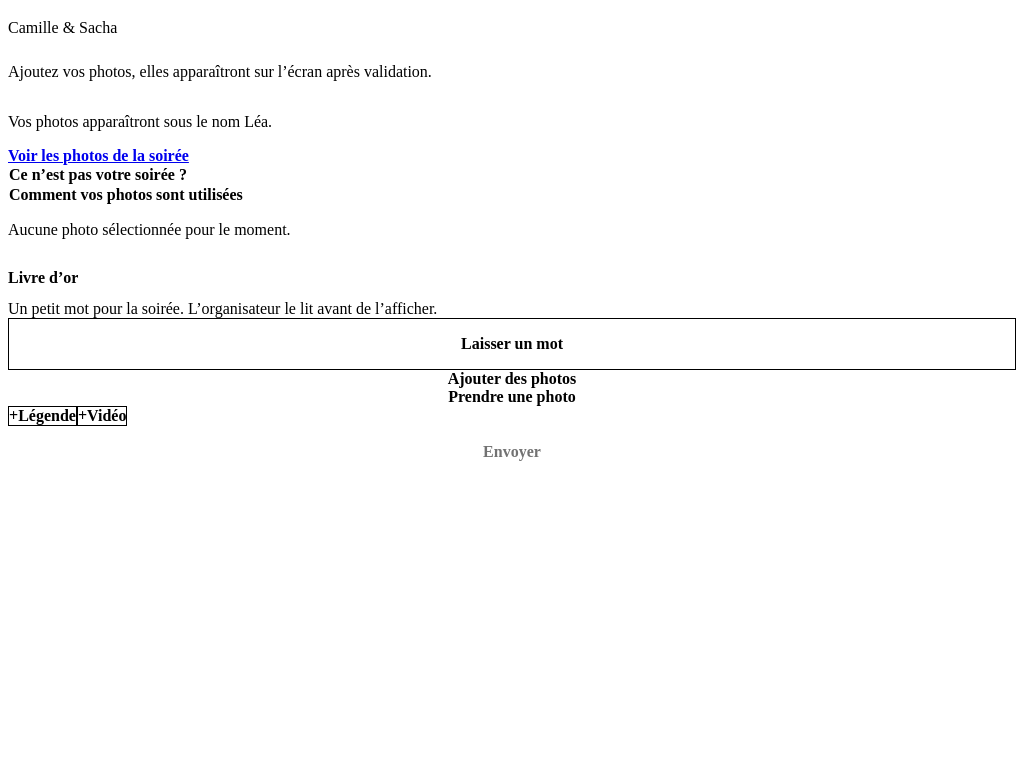
it: GuestUploadPage, the guestbook › says the ceiling in words when the server refuses a fourth message
Click the button "Laisser un mot" at (512, 344), box [8,318,1016,370]
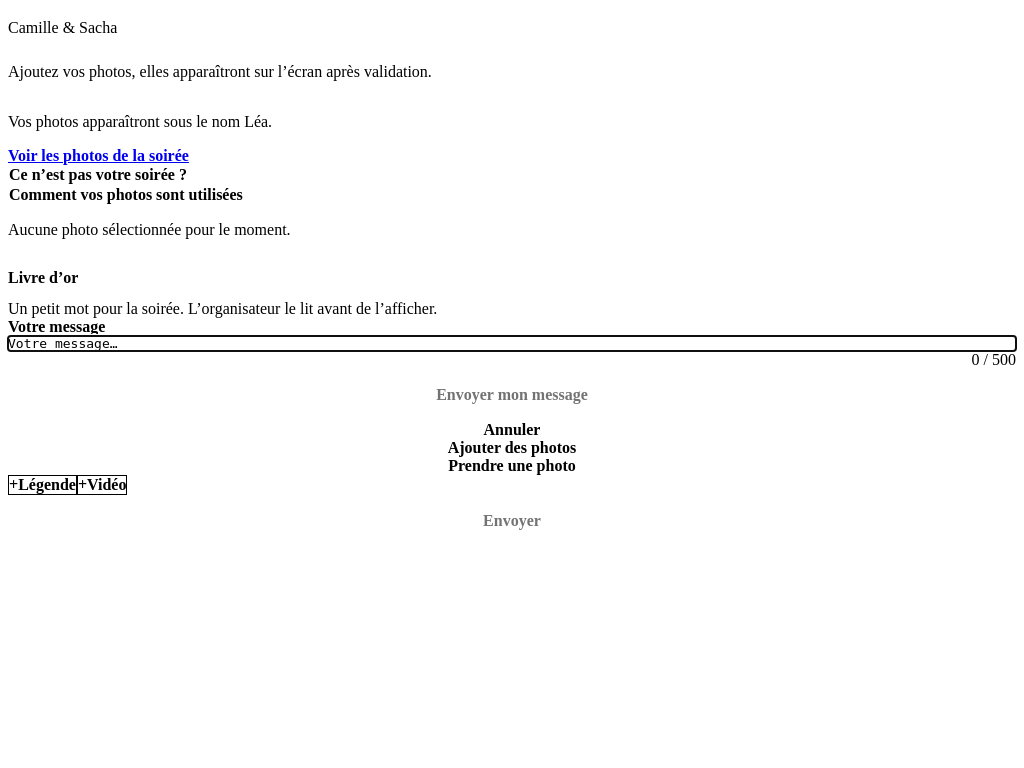
Type "Encore" into the text box labelled "Votre message" at (512, 344), box [8,336,1016,351]
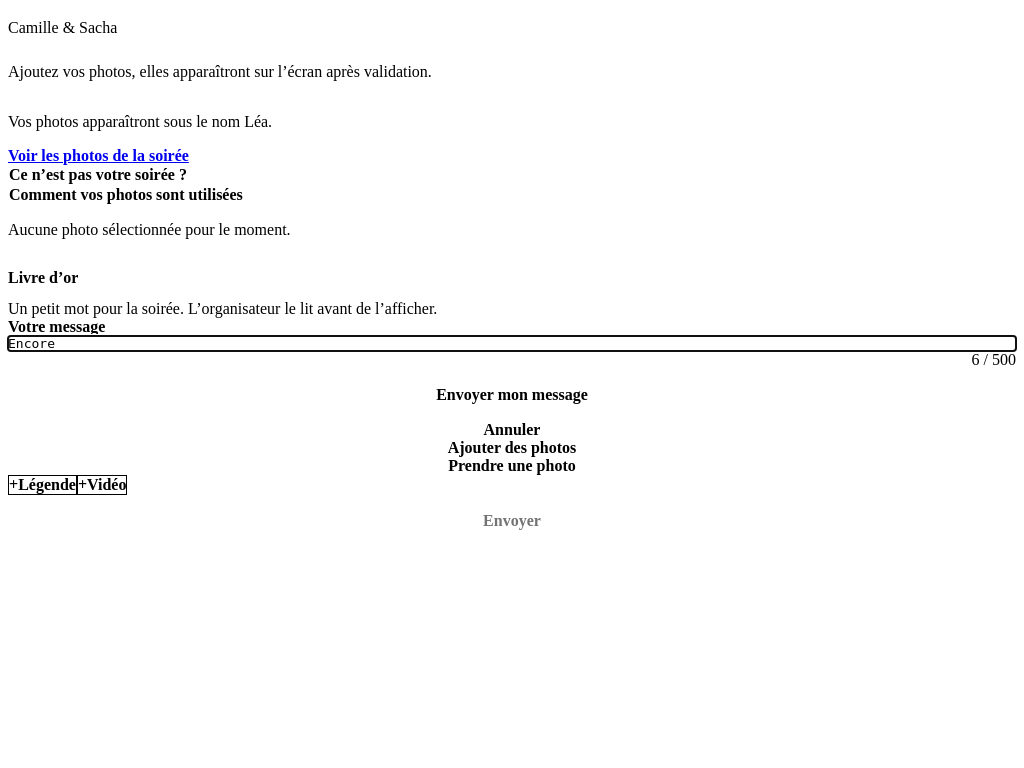
Click the button "Envoyer mon message" at (512, 395), box [8,369,1016,421]
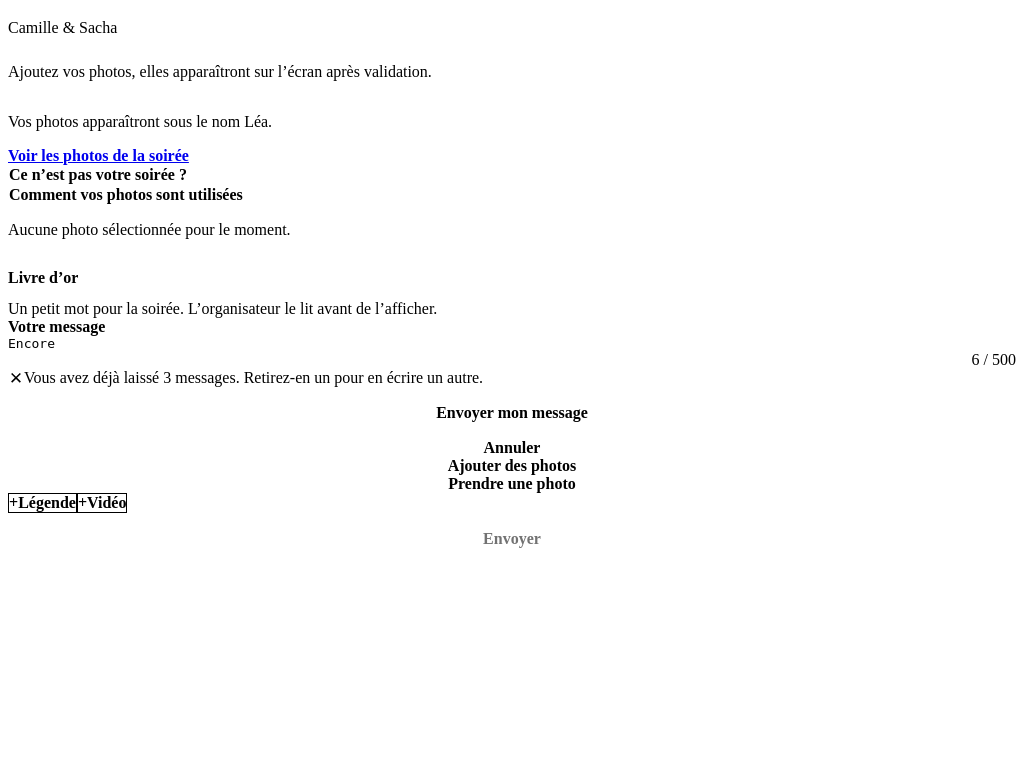
Check: the message reads "Vous avez déjà laissé 3 messages. Retirez-en un pour en écrire un autre.", box [24,369,483,386]
